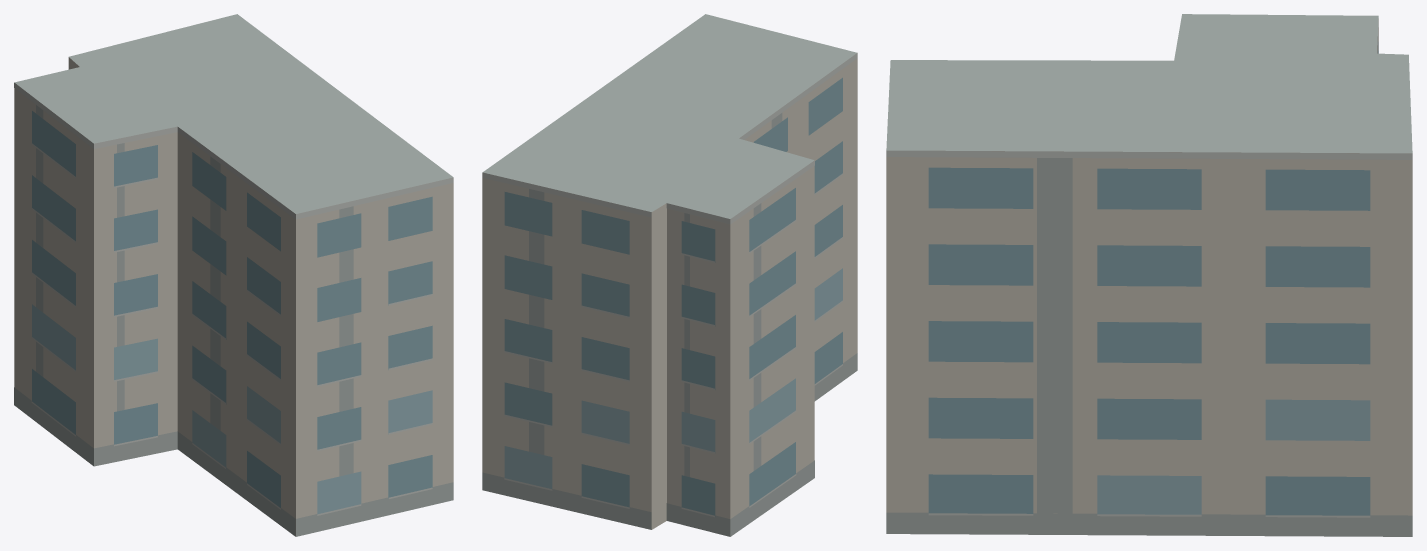
Rendered from survey-upis-32963218.glb.
3 views of the same model, side by side, from view 1: azimuth 30°, elevation 25°; view 2: azimuth 150°, elevation 25°; view 3: azimuth 270°, elevation 25° (orthographic). The views are drawn at different scales.
Parts seen in each view (by area): view 1: survey-upis-32963218.tmp; view 2: survey-upis-32963218.tmp; view 3: survey-upis-32963218.tmp.
Part boxes in pixels (x1,y1,x2,y2): survey-upis-32963218.tmp: (14, 14, 453, 536); survey-upis-32963218.tmp: (482, 14, 857, 536); survey-upis-32963218.tmp: (886, 14, 1412, 536).
Size of the model in its own units: 11.16 by 14.3 by 17.8.
